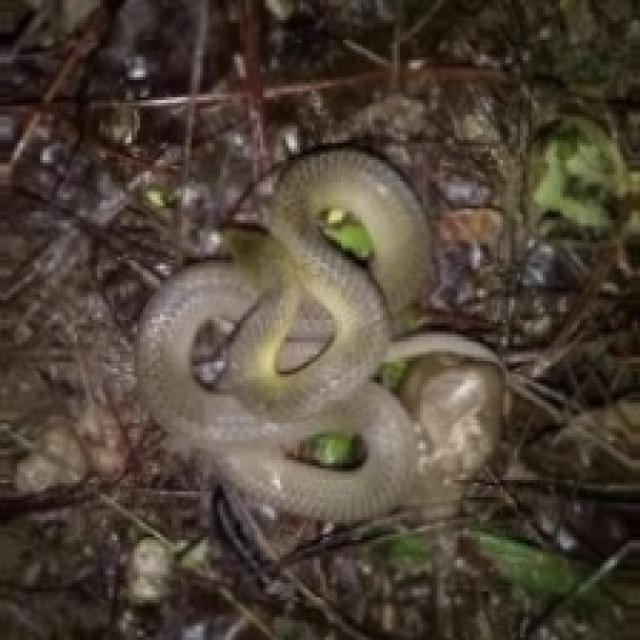gunthers philippine shrub snake: (137, 149, 503, 523)
